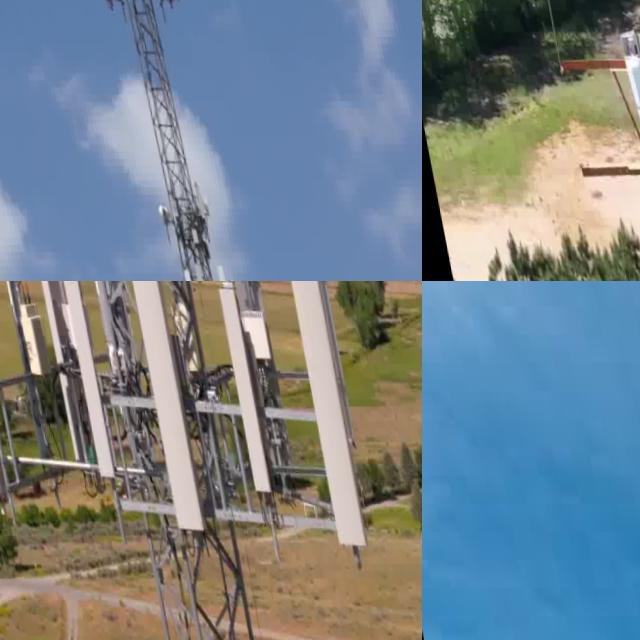GSM Antenna: (115, 281, 210, 549), (276, 281, 368, 549), (56, 281, 120, 493), (207, 281, 269, 491), (18, 281, 87, 466), (0, 281, 54, 462), (214, 281, 281, 420), (616, 45, 640, 169), (181, 251, 206, 281), (169, 254, 195, 281), (203, 255, 229, 281), (214, 257, 241, 281)
Microwave Antenna: (148, 193, 165, 225), (195, 189, 208, 215)
